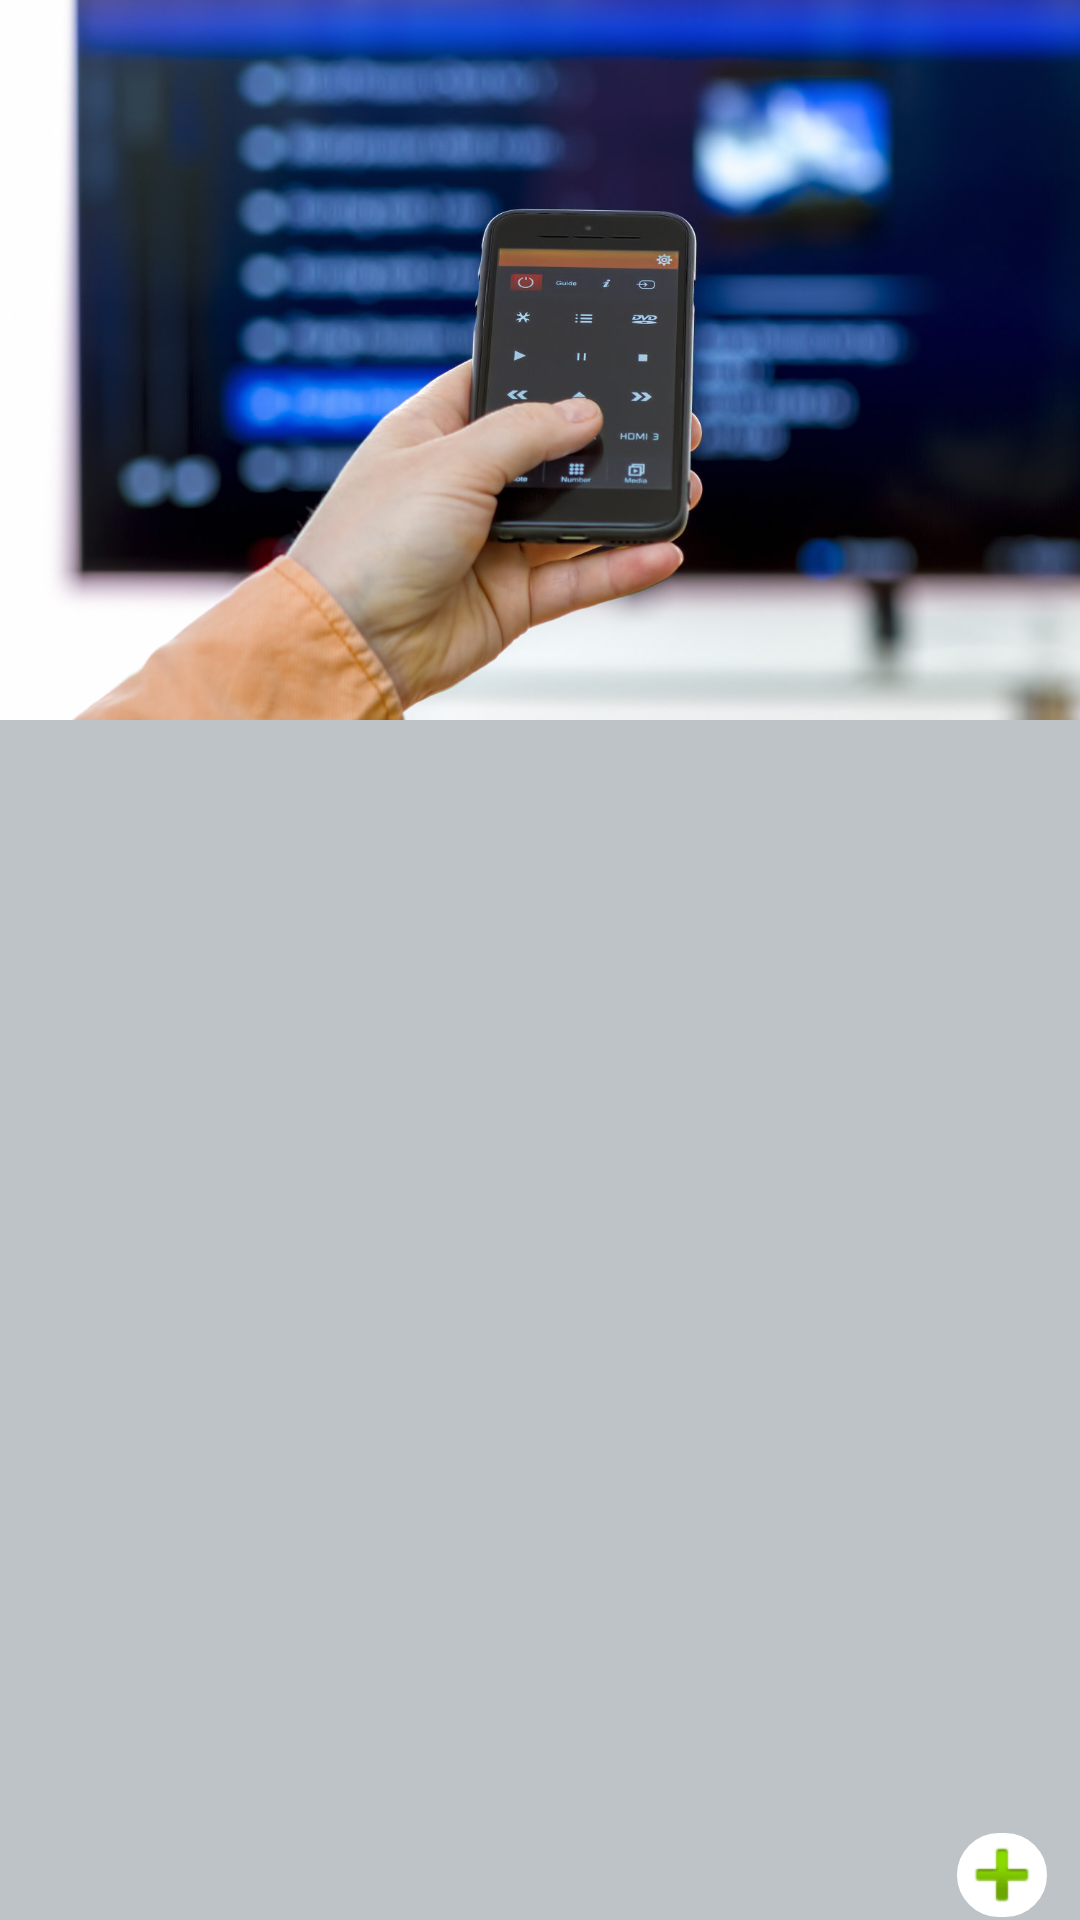

Where icons sit on this 1080x1920 app screen, as (x1, y1, x2, y2):
add: (957, 1833, 1047, 1917)
